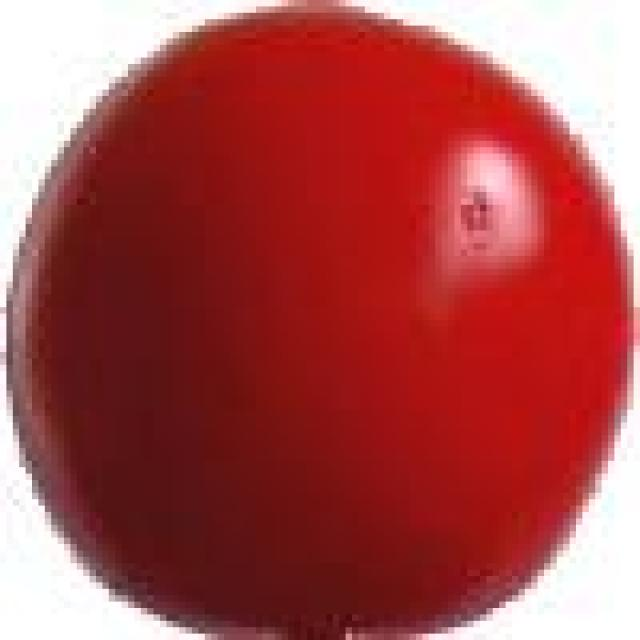Tomato: (6, 13, 627, 634)
